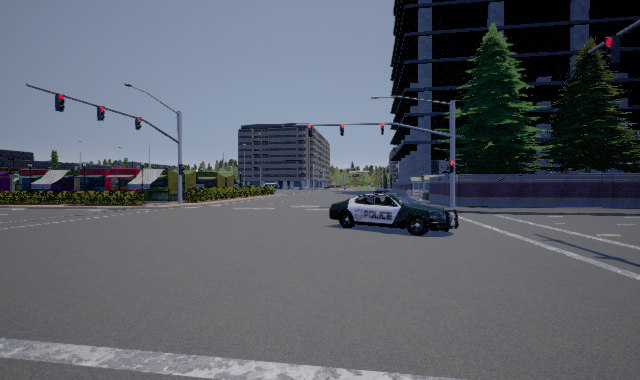traffic_light: (602, 35, 620, 66), (55, 93, 65, 112), (97, 106, 105, 121), (135, 117, 142, 130), (179, 164, 185, 175), (449, 161, 454, 173), (308, 125, 312, 137), (340, 124, 344, 136), (381, 123, 384, 135)
vehicle: (328, 192, 459, 236)
